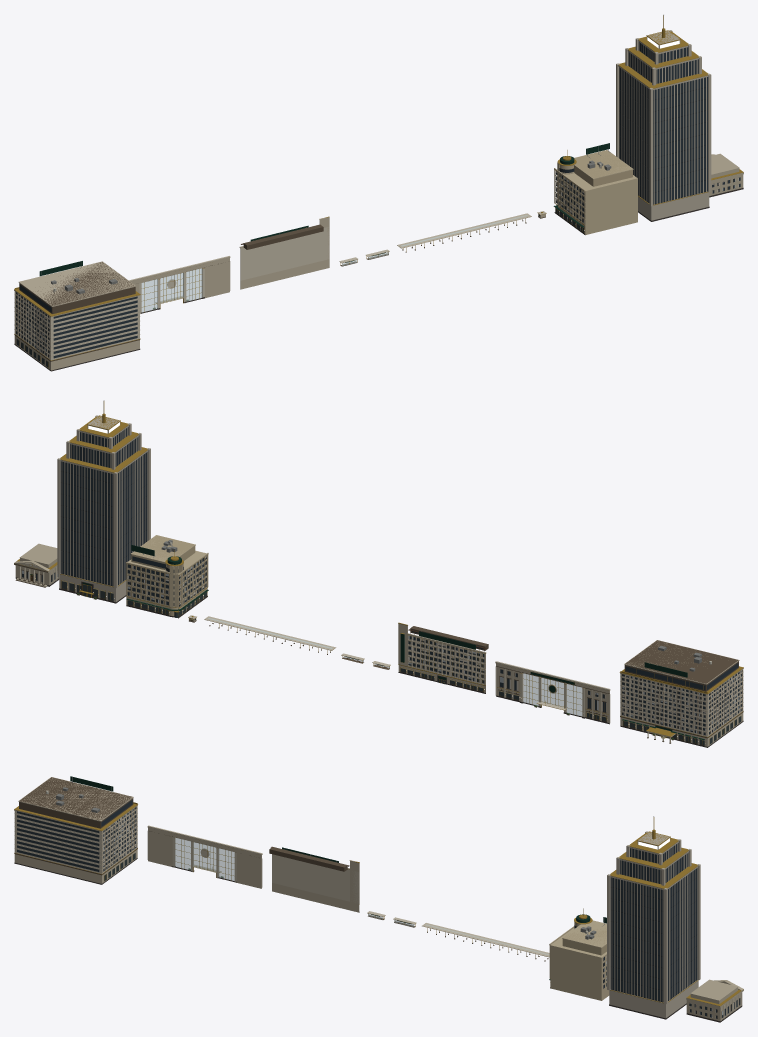
File: plaza.glb
The picture shows the model from 3 angles, top to bottom: view 1: azimuth 30°, elevation 25°; view 2: azimuth 150°, elevation 25°; view 3: azimuth 330°, elevation 25°; orthographic projection.
Parts seen in each view (by area): view 1: plaza_hq_body, plaza_hotel_body, plaza_depato_body, plaza_stationbldg_body, plaza_front_body, plaza_bank_body, plaza_buscanopy_body; view 2: plaza_hq_body, plaza_hotel_body, plaza_depato_body, plaza_stationbldg_body, plaza_front_body, plaza_bank_body, plaza_buscanopy_body; view 3: plaza_hq_body, plaza_hotel_body, plaza_stationbldg_body, plaza_front_body, plaza_depato_body, plaza_bank_body, plaza_buscanopy_body.
Boxes of the visible parts, box(x1,y1,x2,y2) form: plaza_hq_body: box(616, 14, 711, 221); plaza_hotel_body: box(14, 261, 140, 371); plaza_depato_body: box(553, 143, 637, 235); plaza_stationbldg_body: box(239, 216, 329, 289); plaza_front_body: box(129, 256, 230, 313); plaza_bank_body: box(709, 153, 743, 197); plaza_buscanopy_body: box(397, 213, 531, 252); plaza_hq_body: box(57, 400, 150, 603); plaza_hotel_body: box(619, 640, 743, 747); plaza_depato_body: box(126, 535, 208, 618); plaza_stationbldg_body: box(398, 622, 488, 693); plaza_front_body: box(495, 661, 610, 724); plaza_bank_body: box(14, 543, 59, 587); plaza_buscanopy_body: box(204, 616, 336, 654); plaza_hq_body: box(607, 816, 700, 1019); plaza_hotel_body: box(14, 776, 137, 884); plaza_stationbldg_body: box(269, 846, 359, 912); plaza_front_body: box(147, 825, 262, 888); plaza_depato_body: box(549, 908, 609, 1000); plaza_bank_body: box(686, 979, 743, 1022); plaza_buscanopy_body: box(422, 923, 549, 961).
Bounding box in the file's own units: 537 × 136 × 55.6.
